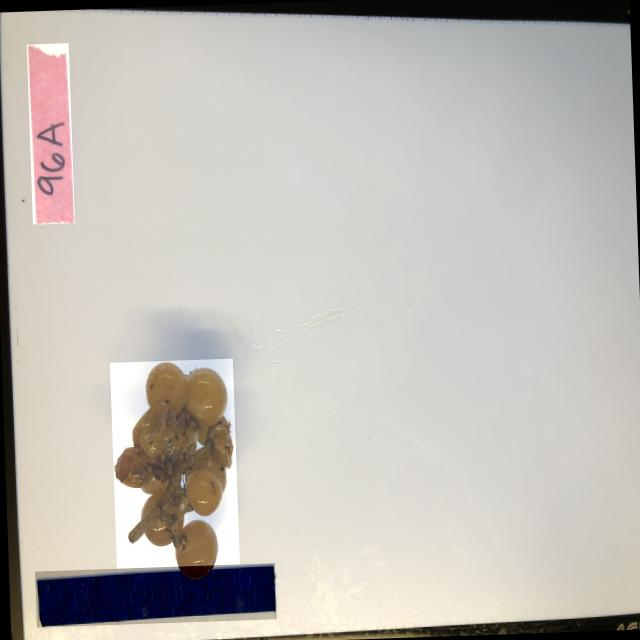grape_cluster: (109, 357, 240, 581)
index: (26, 42, 74, 223)
measure_label: (35, 562, 276, 626)
